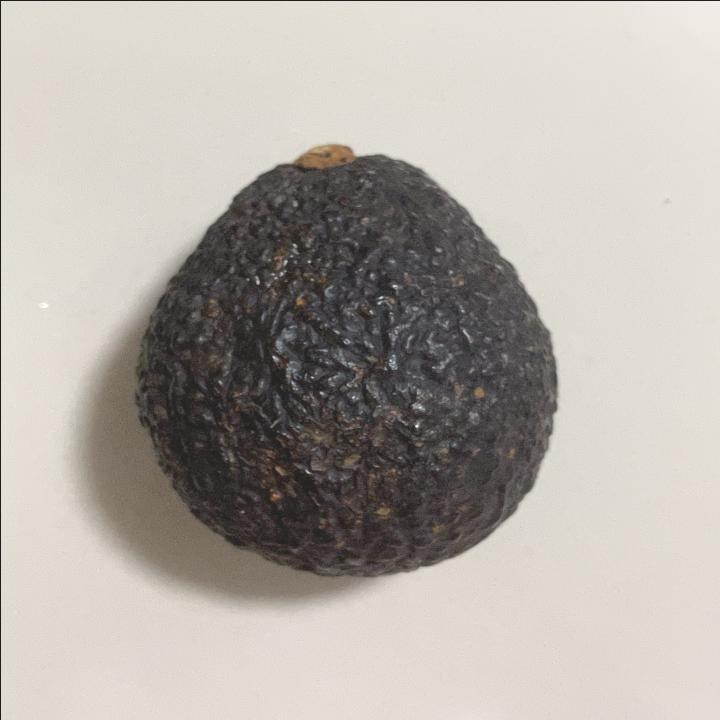Level2: (120, 132, 568, 584)
